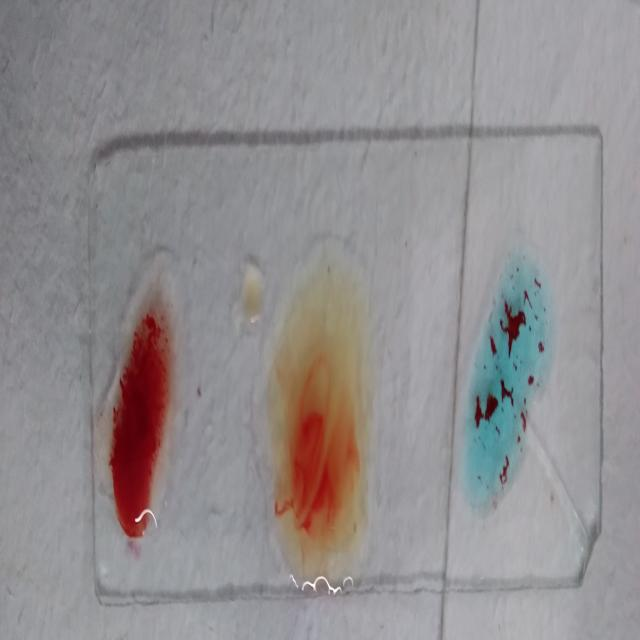A: (460, 272, 555, 521)
